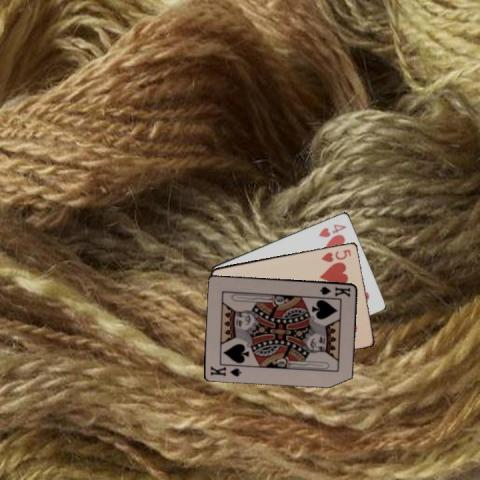4h: (316, 221, 348, 238)
5h: (318, 246, 353, 263)
Ks: (317, 283, 352, 298), (207, 363, 243, 377)
